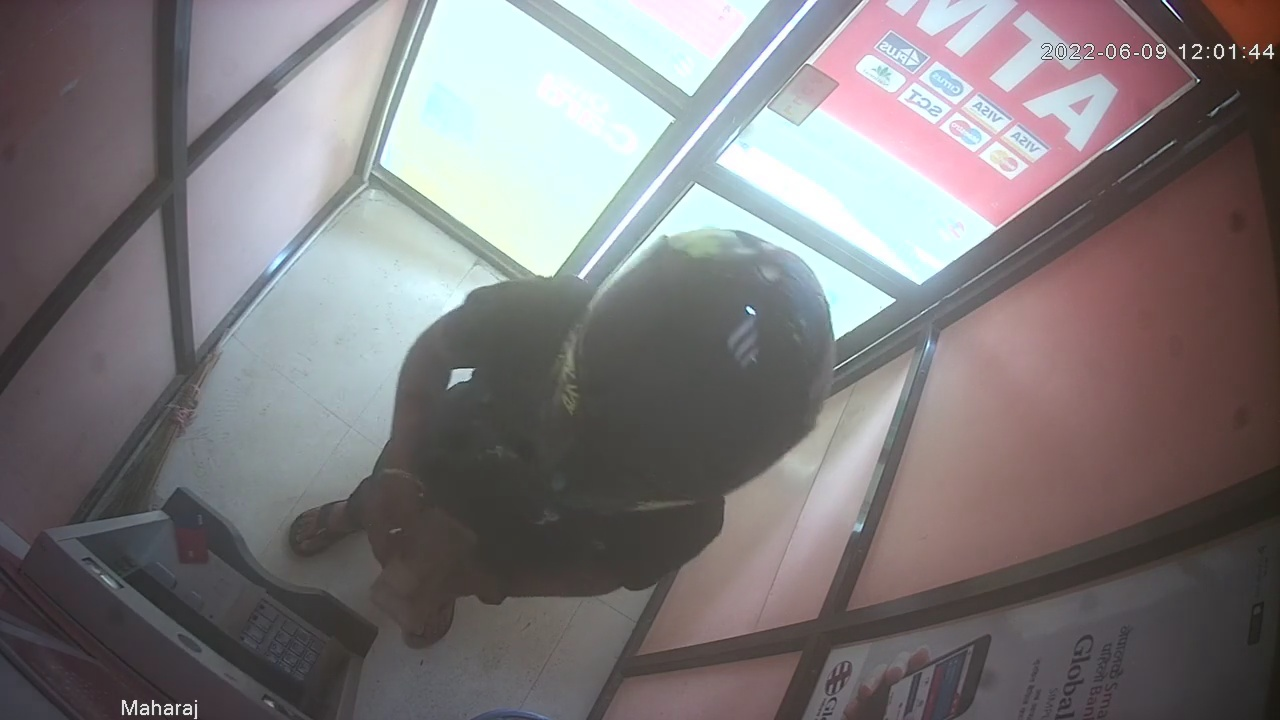helmet: (536, 225, 835, 522)
person: (288, 225, 834, 654)
